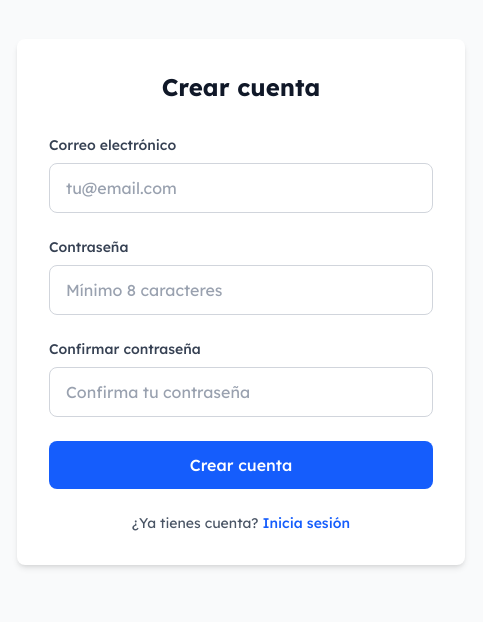
Test: RegisterPage › displays validation error for empty email
This screenshot has width=483, height=622.
Click the button "Crear cuenta" at (241,465), box [49, 441, 433, 489]
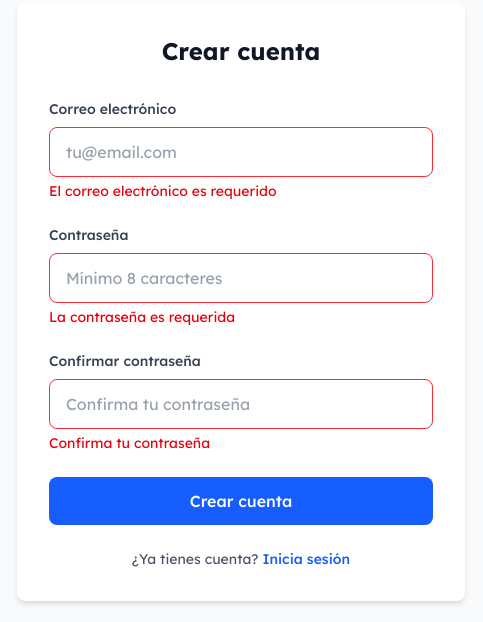
Now the text "El correo electrónico es requerido" is shown, box [49, 182, 277, 200]
